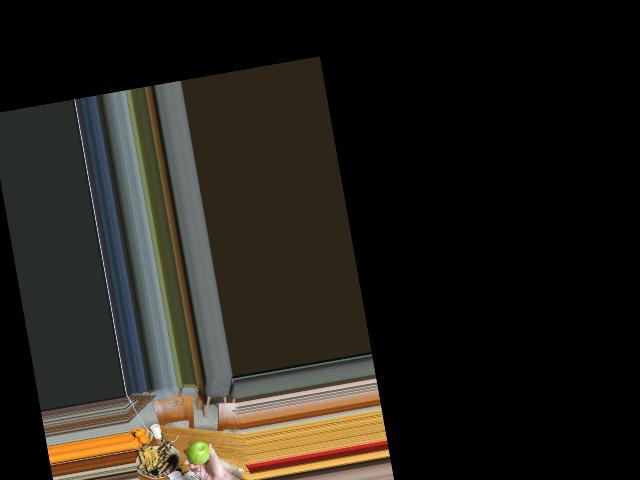apple: (183, 437, 213, 466)
